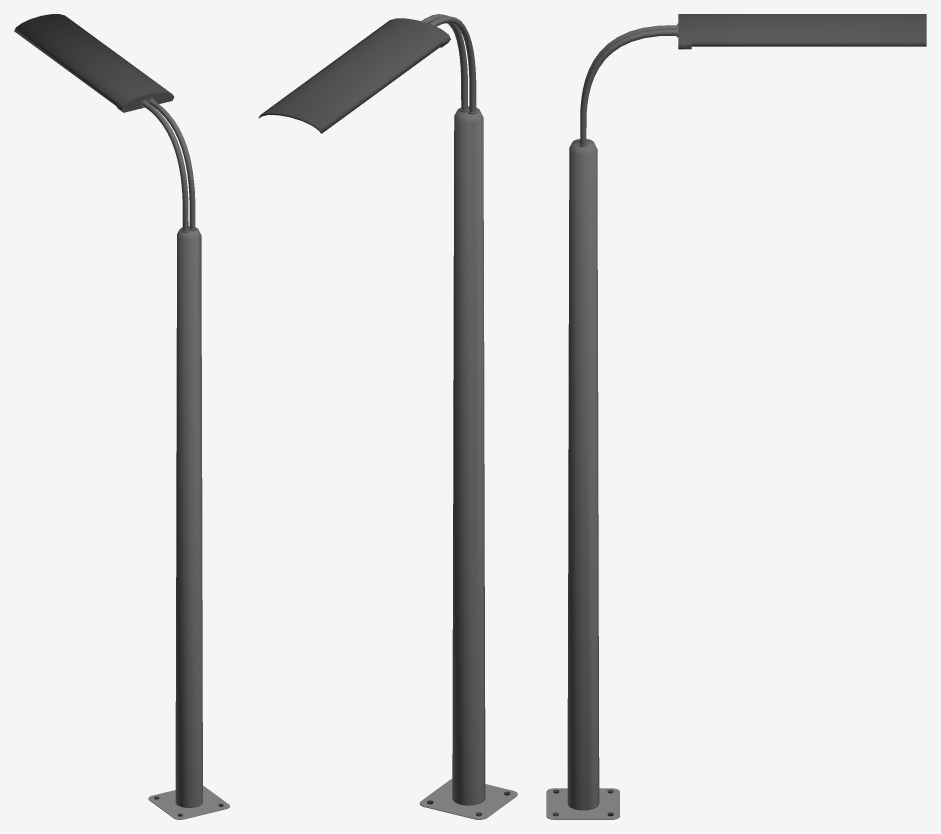
Rendered from scifi_lamp.glb.
3 renders of one model, left to right at view 1: azimuth 30°, elevation 25°; view 2: azimuth 150°, elevation 25°; view 3: azimuth 270°, elevation 25°, orthographic. The views are drawn at different scales.
Visible parts, largest first — view 1: BezierCurve; view 2: BezierCurve; view 3: BezierCurve.
Boxes of the visible parts, x1,y1,x2,y2 form: BezierCurve: (14,14,229,819); BezierCurve: (258,14,517,819); BezierCurve: (546,14,926,819).
Size of the model in its own units: 0.3968 by 4.65 by 2.05.
1 material, 1 textured.
